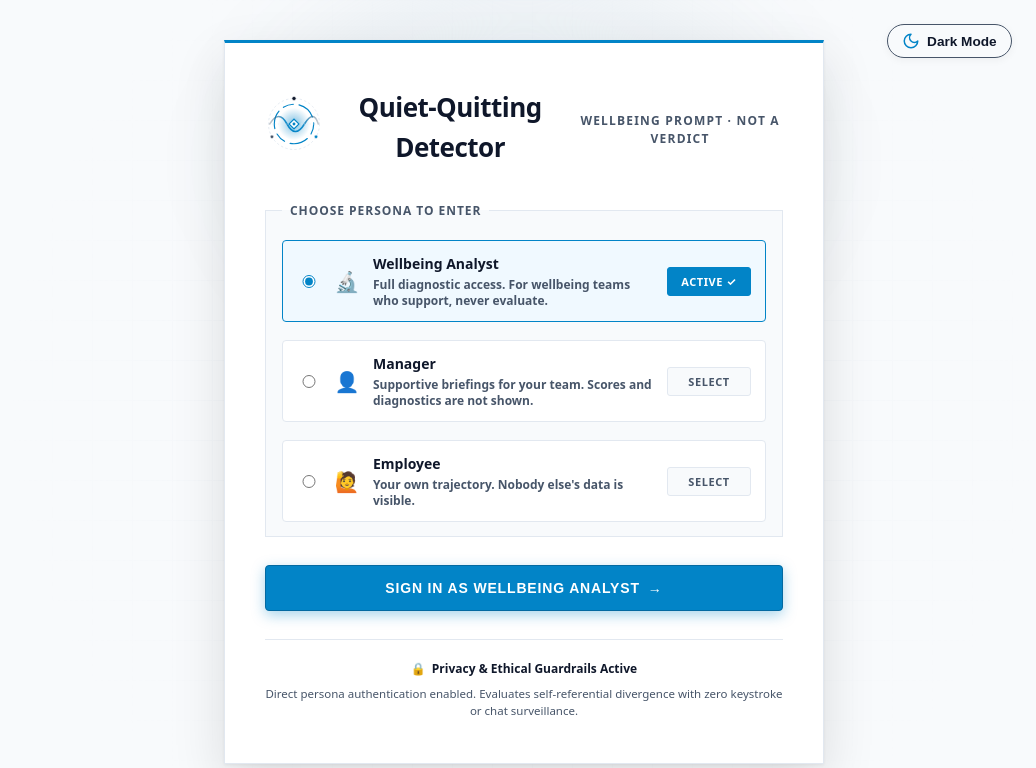
ApiKeyGate › signs in when role is chosen and submitted
Click the radio button labelled "Manager": click(309, 381) top-left (297, 375), bottom-right (321, 388)
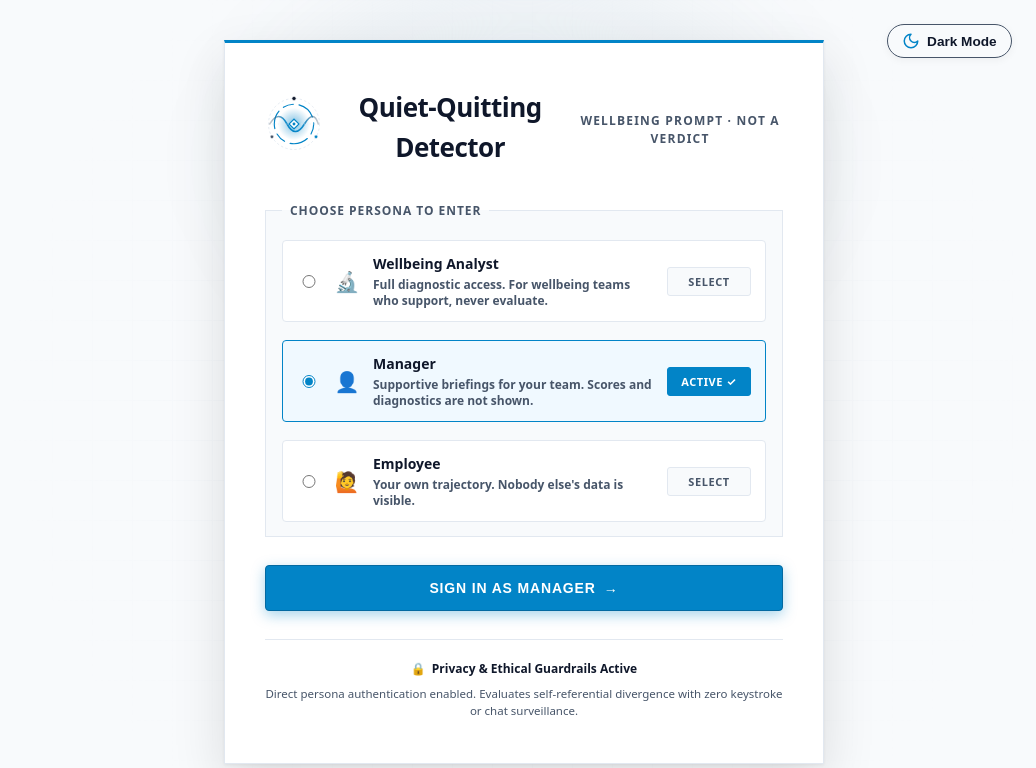
Click the button "Sign in as Manager →": click(524, 588) top-left (265, 565), bottom-right (783, 611)
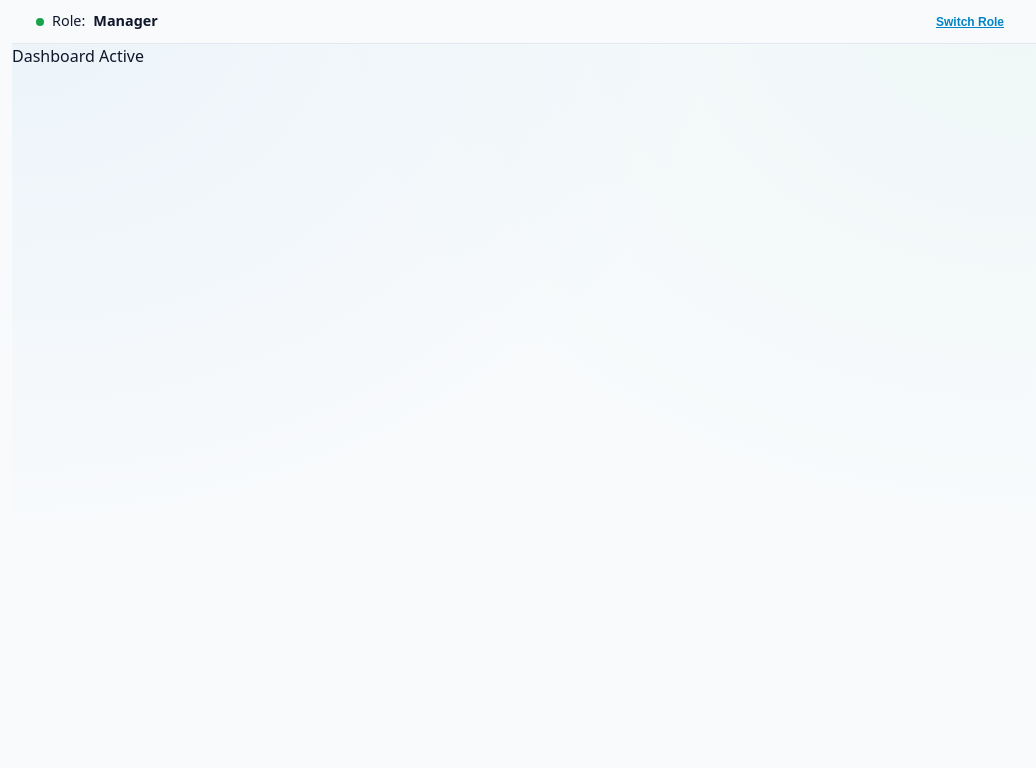
Check: the text "Manager" is shown, box top-left (93, 10), bottom-right (158, 33)
Check: the text "Dashboard Active" is shown, box top-left (12, 45), bottom-right (144, 67)
Check: the button "Switch Role" is shown, box top-left (928, 10), bottom-right (1012, 32)
